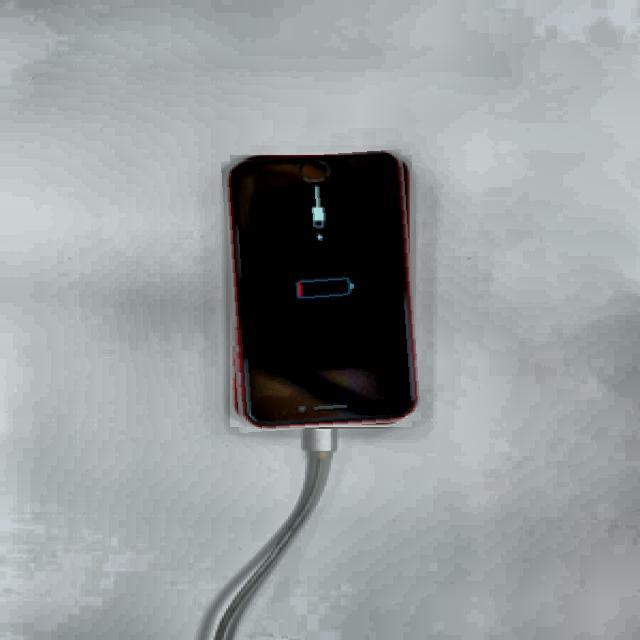Phone: (226, 152, 417, 430)
